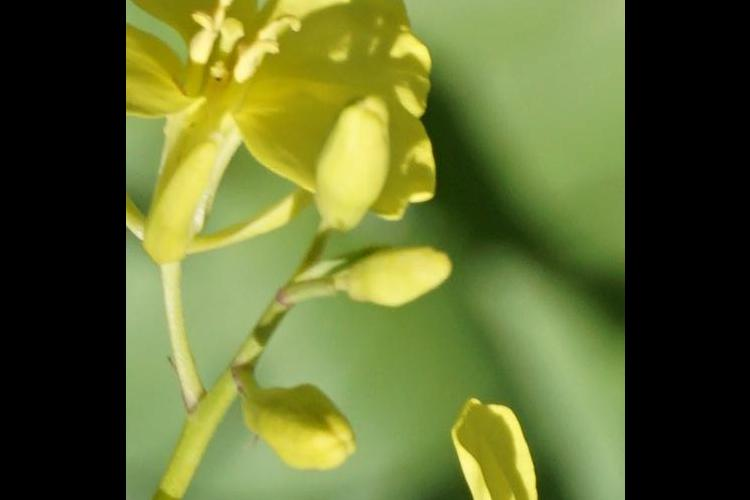bud: (304, 91, 402, 237), (227, 381, 366, 481), (332, 238, 455, 323)
yellow: (127, 1, 447, 264), (292, 399, 569, 500)
